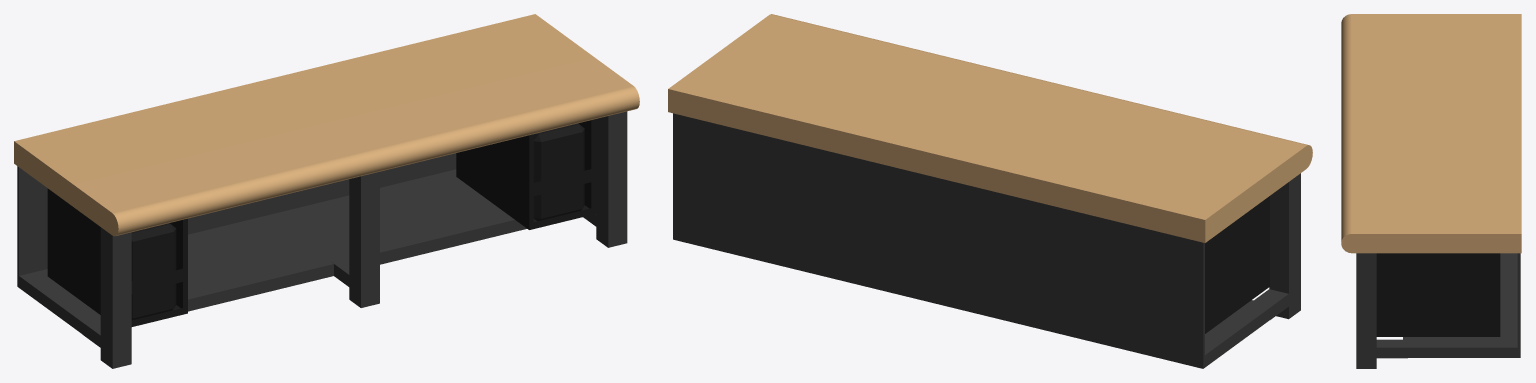
File: bureau.fbx
3 renders of one model, left to right at view 1: azimuth 30°, elevation 25°; view 2: azimuth 150°, elevation 25°; view 3: azimuth 270°, elevation 25°, orthographic. The views are drawn at different scales.
Visible parts, largest first — view 1: pCube1, pCube5, pCube9, pCube6, pCube3, pCube2, pCube4, pCube8, pCube7; view 2: pCube5, pCube1, pCube6, pCube3; view 3: pCube1, pCube9, pCube5, pCube4.
Part boxes in pixels (left/top/right/bottom): pCube1: left=14, top=14, right=639, bottom=236; pCube5: left=17, top=153, right=526, bottom=336; pCube9: left=456, top=119, right=596, bottom=229; pCube6: left=47, top=188, right=187, bottom=326; pCube3: left=83, top=227, right=131, bottom=368; pCube2: left=331, top=171, right=379, bottom=307; pCube4: left=583, top=111, right=627, bottom=247; pCube8: left=533, top=123, right=584, bottom=221; pCube7: left=131, top=223, right=176, bottom=320; pCube5: left=673, top=113, right=1273, bottom=368; pCube1: left=668, top=14, right=1312, bottom=242; pCube6: left=1205, top=196, right=1269, bottom=333; pCube3: left=1254, top=173, right=1300, bottom=319; pCube1: left=1341, top=14, right=1521, bottom=253; pCube9: left=1376, top=253, right=1500, bottom=336; pCube5: left=1403, top=253, right=1520, bottom=357; pCube4: left=1356, top=253, right=1407, bottom=368.
Size of the model in its own units: 16.77 by 4.87 by 5.82.
